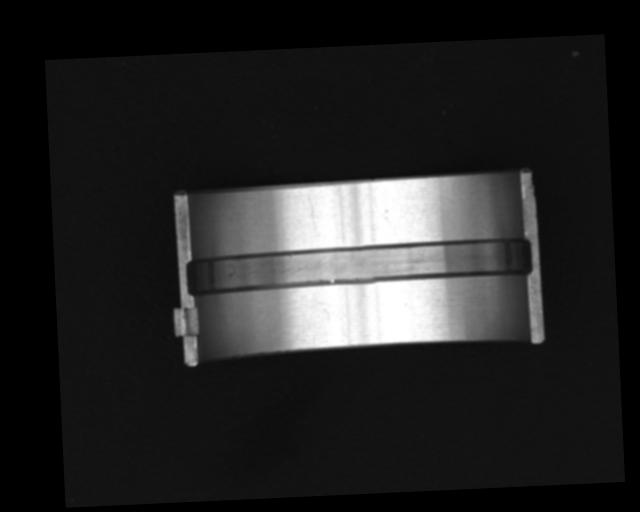gap: (186, 235, 535, 296)
nick: (307, 196, 318, 230)
